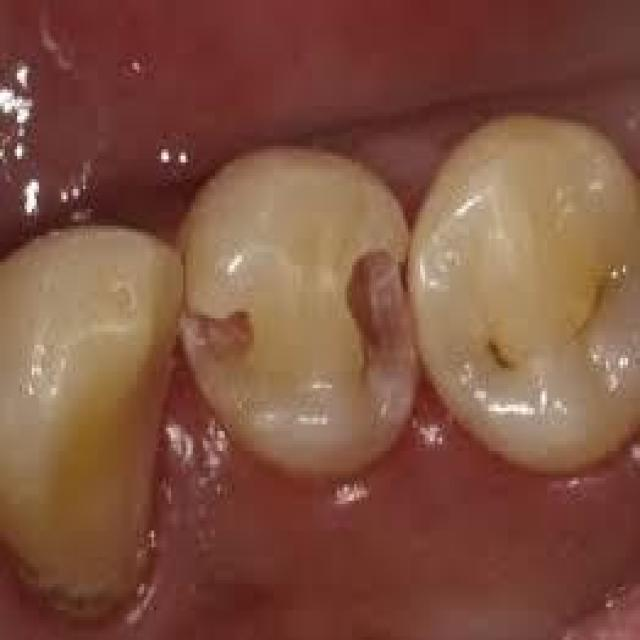Caries: (491, 342, 511, 368)
Cavity: (344, 249, 413, 385), (186, 312, 254, 371)
Tooth: (171, 146, 420, 474), (410, 116, 638, 464), (0, 229, 181, 617)
